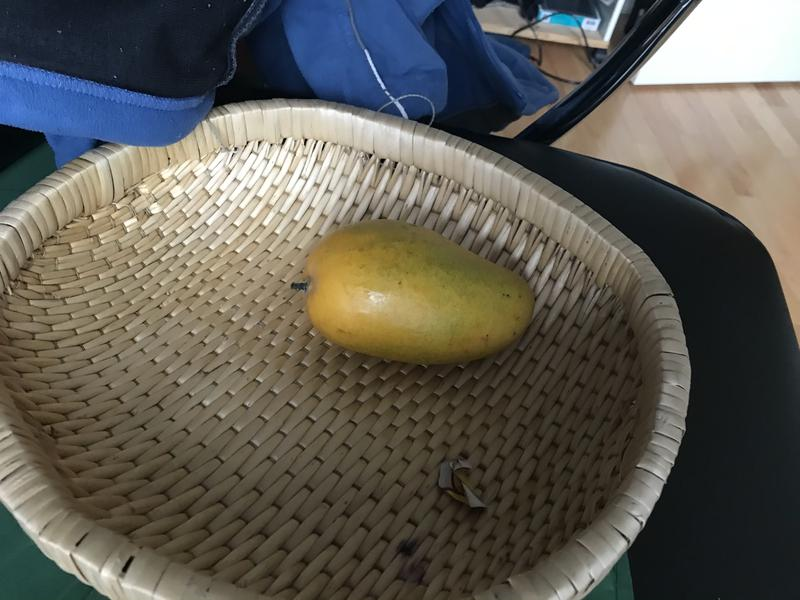mango: (276, 216, 544, 368)
